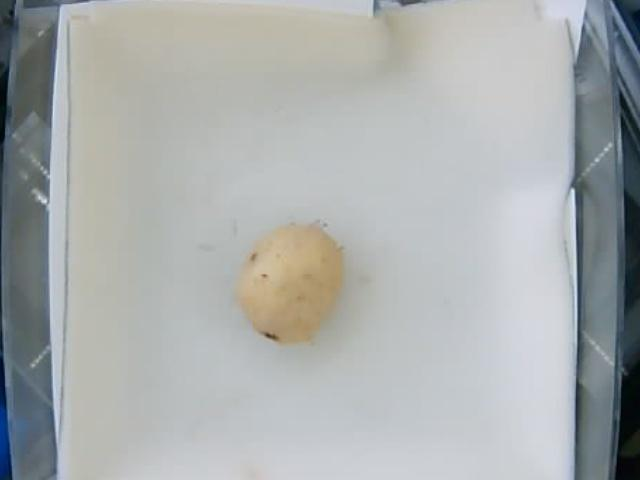Potato: (239, 217, 344, 341)
